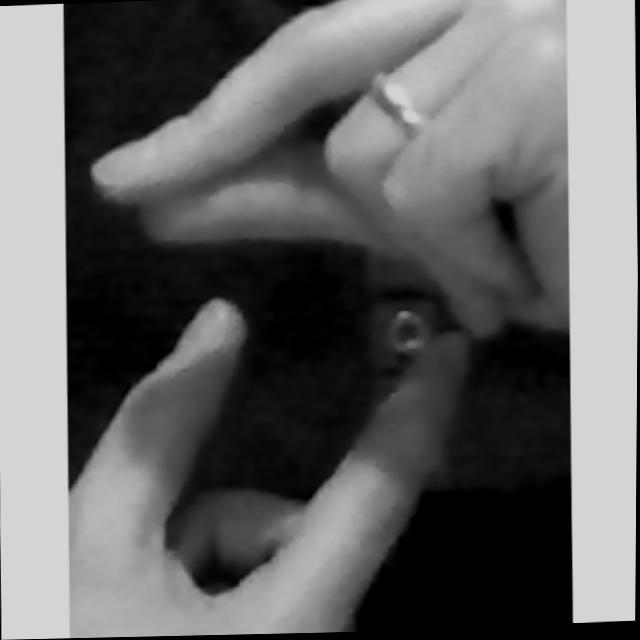U--: (59, 0, 578, 639)
